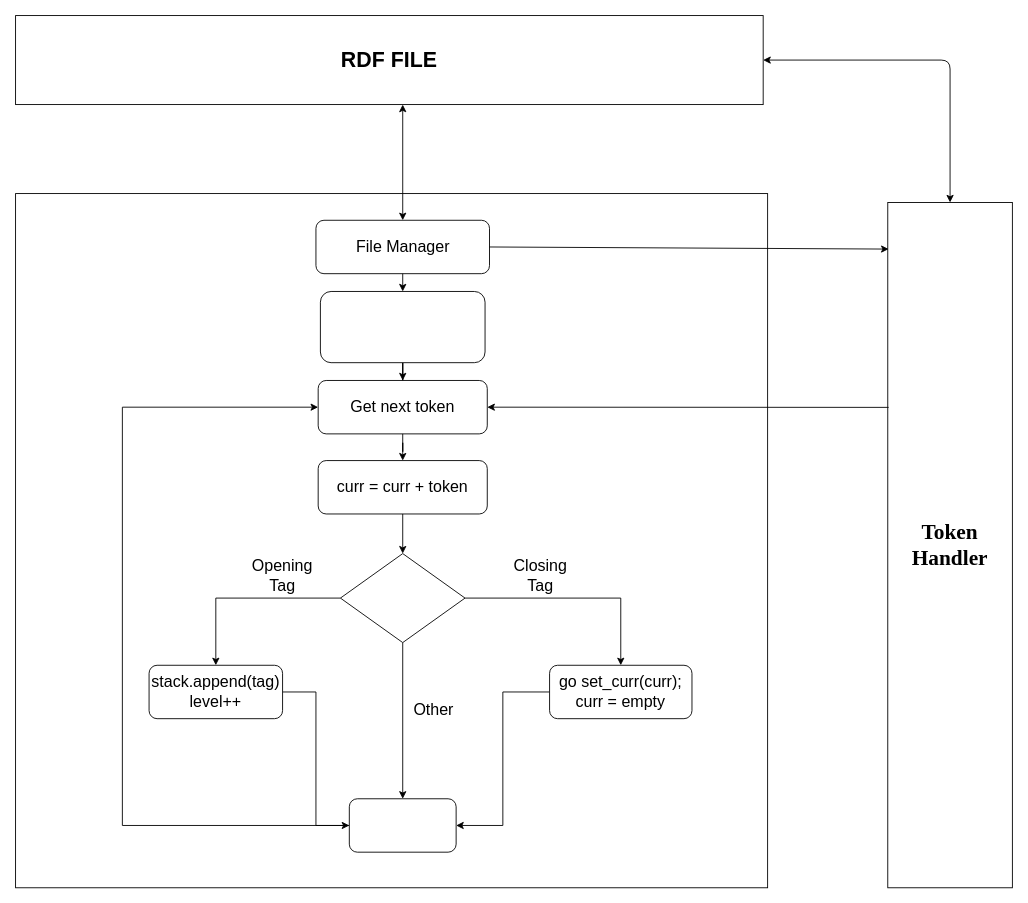
Image size: 1028x903. Some labels were removed from this diagram. Each missing label, with the box of its shape:
goto get nextToken: (348, 798, 456, 852)
Initialize SPDX Document and other variables: (320, 291, 485, 363)
token: (340, 553, 465, 643)
